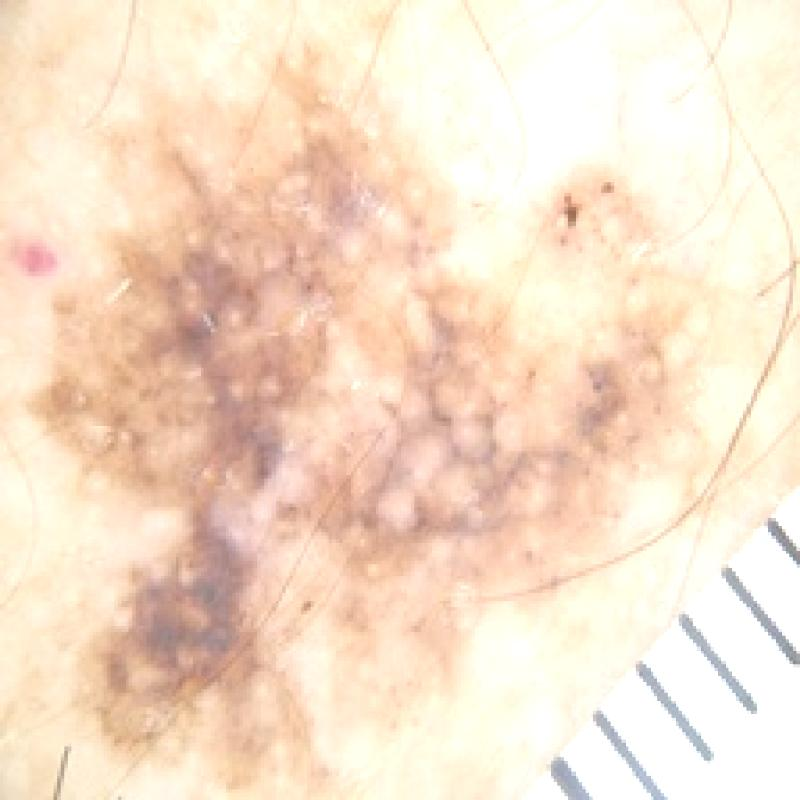malignant: (42, 115, 698, 685)
